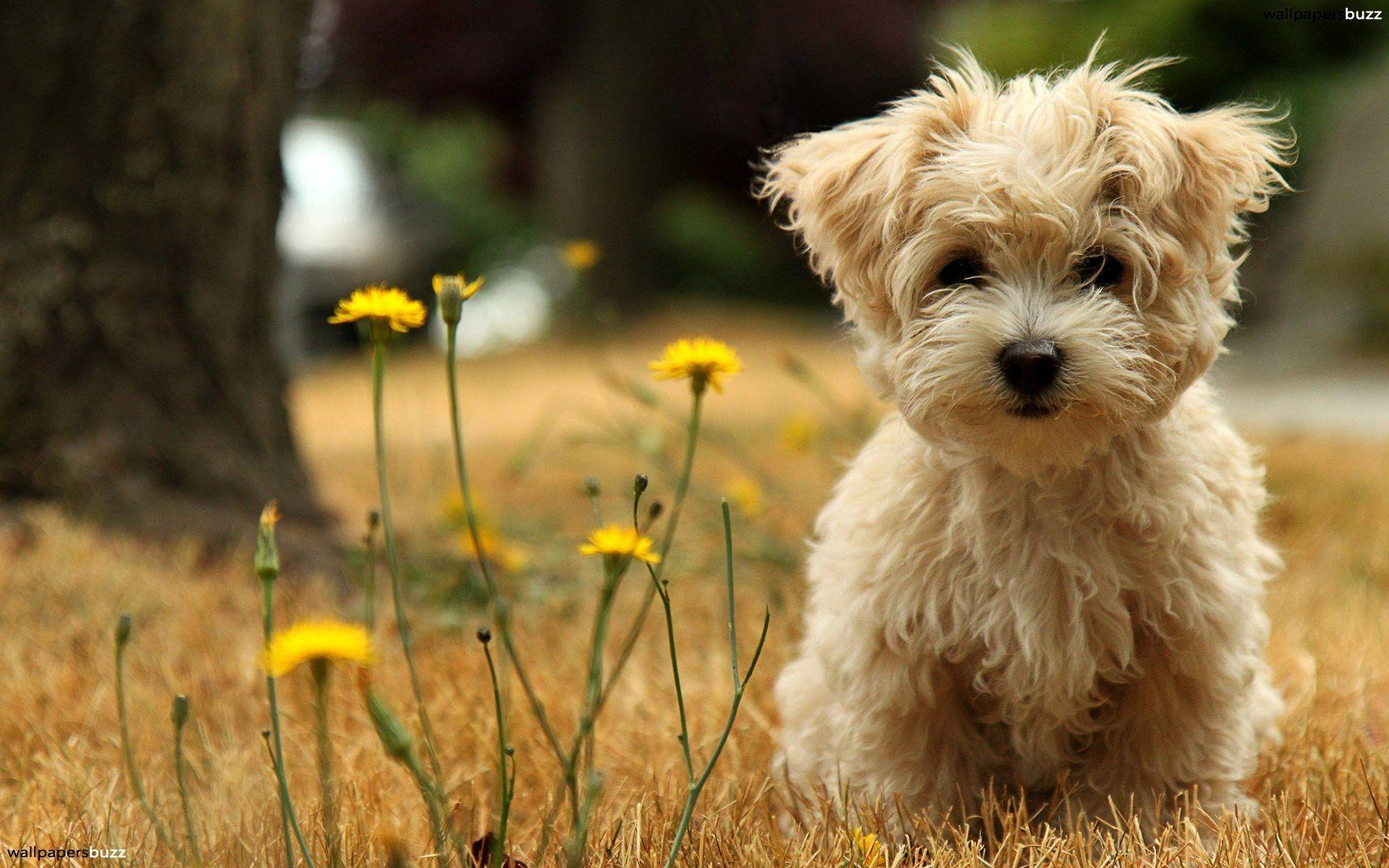puppy-dog: (747, 27, 1301, 848)
